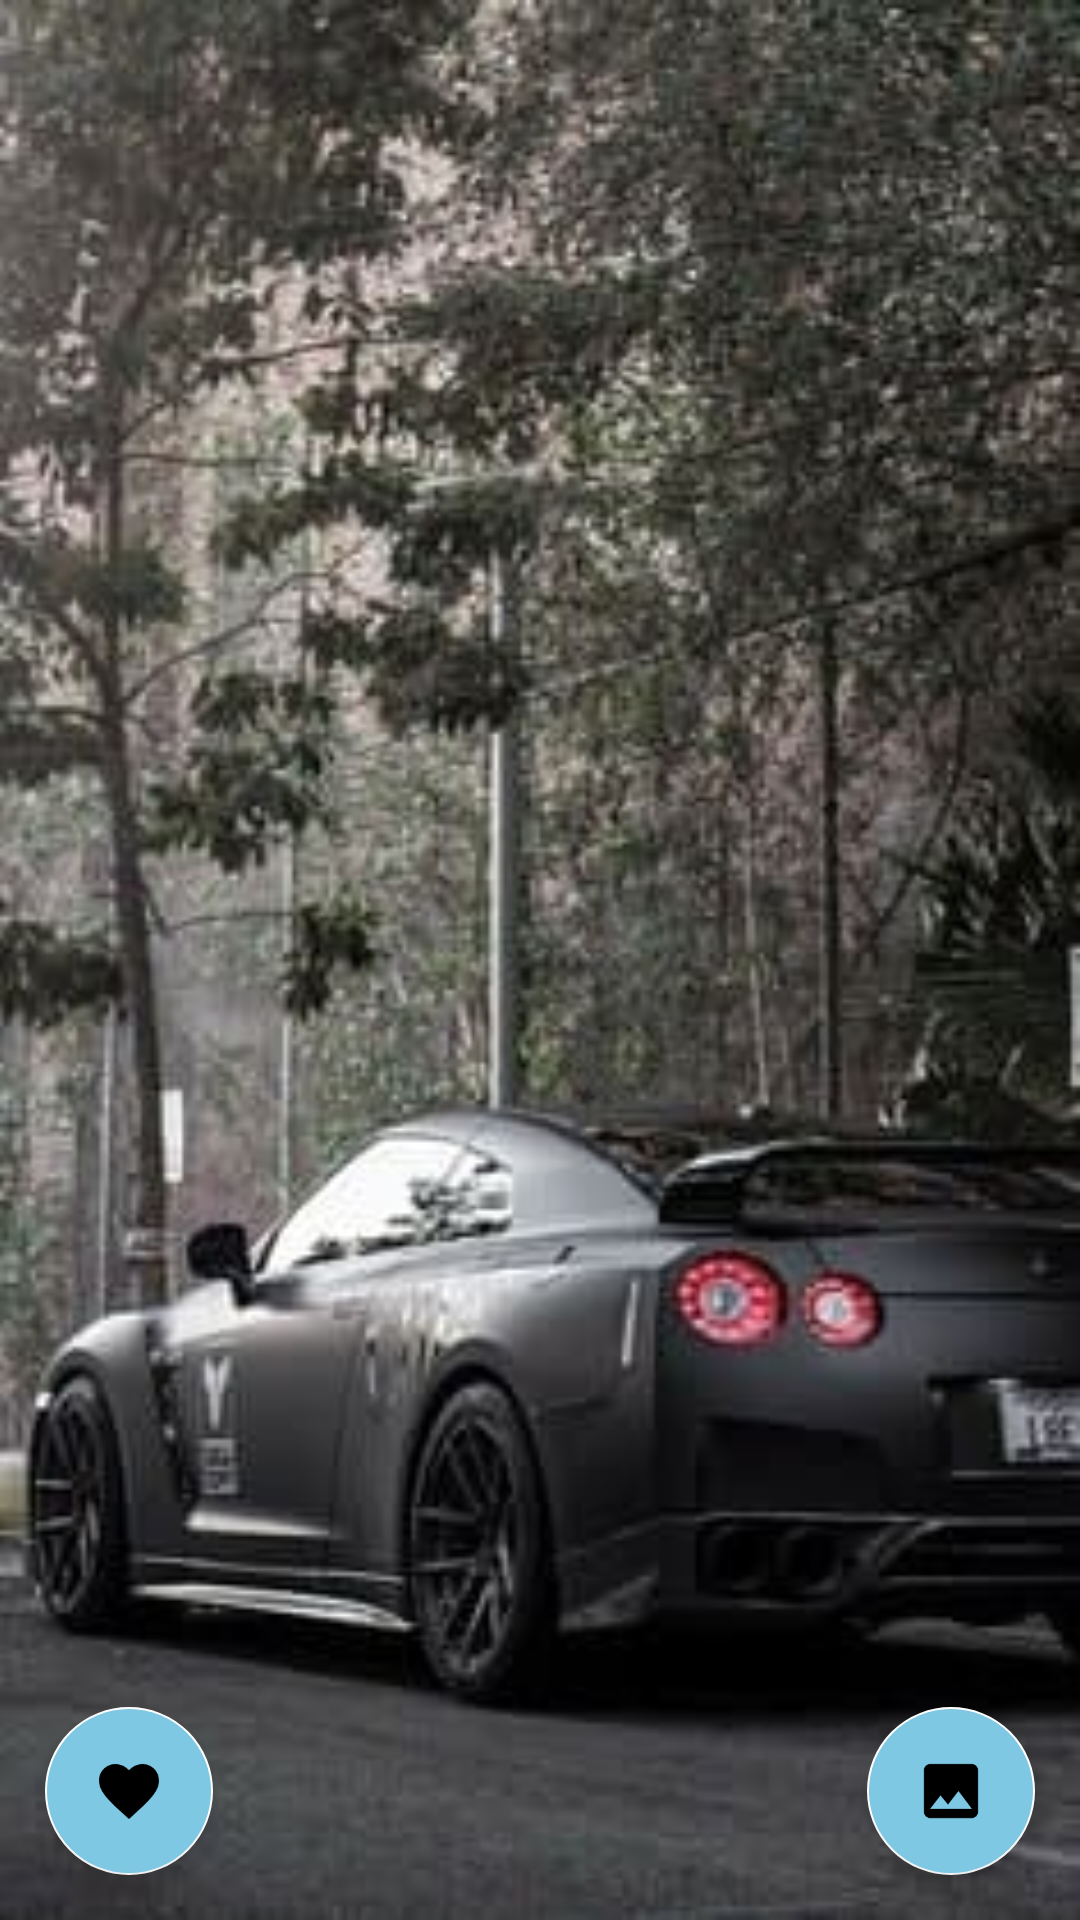

Icon bounding boxes for this 1080 x 1920 phone screenshot, format bbox=(x1, y1, x2, y2):
favorite: bbox=(45, 1707, 213, 1875)
